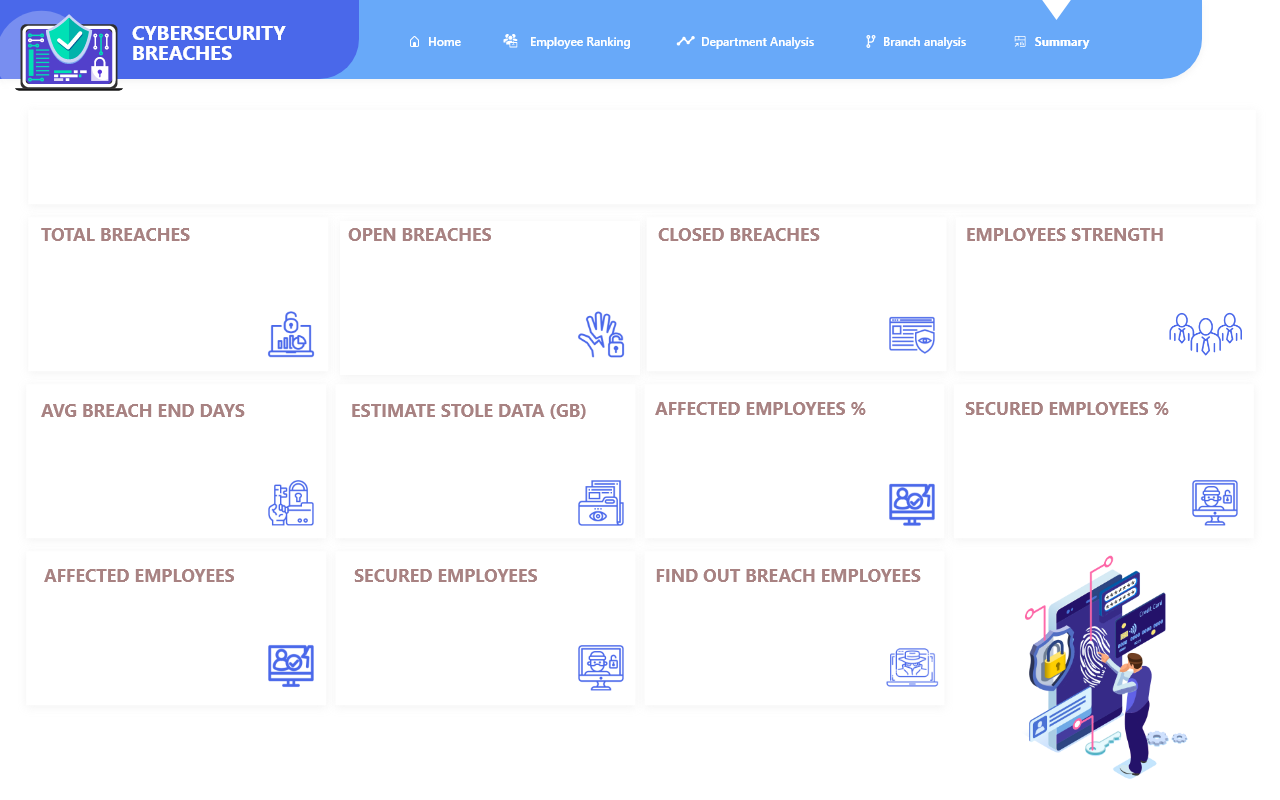

The page's visual inventory and layout, read from the dashboard file:
{"tool":"powerbi","page":{"name":"Summary","canvas":[1280,720],"ordinal":4},"visuals":[{"type":"card","fields":{"Values":["DAX Measures.Total Breaches"]},"box":[33.4,224.5,229.3,107.5],"z":0},{"type":"card","fields":{"Values":["DAX Measures.Open Breaches"]},"box":[343.9,224.5,231.6,107.5],"z":1000},{"type":"card","fields":{"Values":["DAX Measures.Closed Breaches"]},"box":[649.6,224.5,237.6,106.3],"z":2000},{"type":"card","fields":{"Values":["DAX Measures.Avg Breach End Days"]},"box":[23.9,384.5,238.8,99.1],"z":3000},{"type":"card","fields":{"Values":["DAX Measures.Estimate Stole Data (GBs)"]},"box":[335.5,384.5,238.8,99.1],"z":4000},{"type":"card","fields":{"Values":["DAX Measures.Total Employee Strength"]},"box":[955.2,224.5,211.3,106.3],"z":5000},{"type":"card","fields":{"Values":["DAX Measures.Total Employee Data Breaches"]},"box":[25.1,529,237.6,105.1],"z":6000},{"type":"card","fields":{"Values":["DAX Measures.Non Affected Employee"]},"box":[335.5,529,238.8,105.1],"z":7000},{"type":"card","fields":{"Values":["DAX Measures.Affected Employee %"]},"box":[647.2,376.1,238.8,107.5],"z":8000},{"type":"card","fields":{"Values":["DAX Measures.Non Affected Employee %"]},"box":[955.2,376.1,229.3,108.7],"z":9000},{"type":"card","fields":{"Values":["DAX Measures.Find Out Breaches Employee"]},"box":[649.6,529,234,105.1],"z":10000},{"type":"slicer","fields":{"Values":["Country.CountryBranch"]},"box":[29.9,101,259.2,82.3],"z":11000},{"type":"slicer","fields":{"Values":["Department.Department"]},"box":[332.8,101,259.2,82.3],"z":12000},{"type":"slicer","fields":{"Values":["Branch.Branch"]},"box":[618.2,101,281.7,82.3],"z":13000},{"type":"slicer","fields":{"Values":["Find Out Breach Employees.Employee(who find out breach)"]},"box":[934.8,101,291.6,82.3],"z":14000},{"type":"actionButton","box":[490.7,16.7,149.3,41.8],"z":15000},{"type":"actionButton","box":[672.2,16.7,149.3,41.8],"z":16000},{"type":"actionButton","box":[857.3,16.7,115.8,41.8],"z":17000},{"type":"actionButton","box":[398.8,16.7,69.3,41.8],"z":18000}]}

Visuals, with their boxes on the page's 1280x720 design canvas (x1, y1, x2, y2). These are canvas units, not pixel positions in the 1280x800 screenshot, which may show the page scaled, cropped or inside an application window:
card - DAX Measures.Total Breaches: (x1=33, y1=224, x2=263, y2=332)
card - DAX Measures.Open Breaches: (x1=344, y1=224, x2=576, y2=332)
card - DAX Measures.Closed Breaches: (x1=650, y1=224, x2=887, y2=331)
card - DAX Measures.Avg Breach End Days: (x1=24, y1=384, x2=263, y2=484)
card - DAX Measures.Estimate Stole Data (GBs): (x1=336, y1=384, x2=574, y2=484)
card - DAX Measures.Total Employee Strength: (x1=955, y1=224, x2=1166, y2=331)
card - DAX Measures.Total Employee Data Breaches: (x1=25, y1=529, x2=263, y2=634)
card - DAX Measures.Non Affected Employee: (x1=336, y1=529, x2=574, y2=634)
card - DAX Measures.Affected Employee %: (x1=647, y1=376, x2=886, y2=484)
card - DAX Measures.Non Affected Employee %: (x1=955, y1=376, x2=1184, y2=485)
card - DAX Measures.Find Out Breaches Employee: (x1=650, y1=529, x2=884, y2=634)
slicer - Country.CountryBranch: (x1=30, y1=101, x2=289, y2=183)
slicer - Department.Department: (x1=333, y1=101, x2=592, y2=183)
slicer - Branch.Branch: (x1=618, y1=101, x2=900, y2=183)
slicer - Find Out Breach Employees.Employee(who find out breach): (x1=935, y1=101, x2=1226, y2=183)
actionButton: (x1=491, y1=17, x2=640, y2=58)
actionButton: (x1=672, y1=17, x2=822, y2=58)
actionButton: (x1=857, y1=17, x2=973, y2=58)
actionButton: (x1=399, y1=17, x2=468, y2=58)
